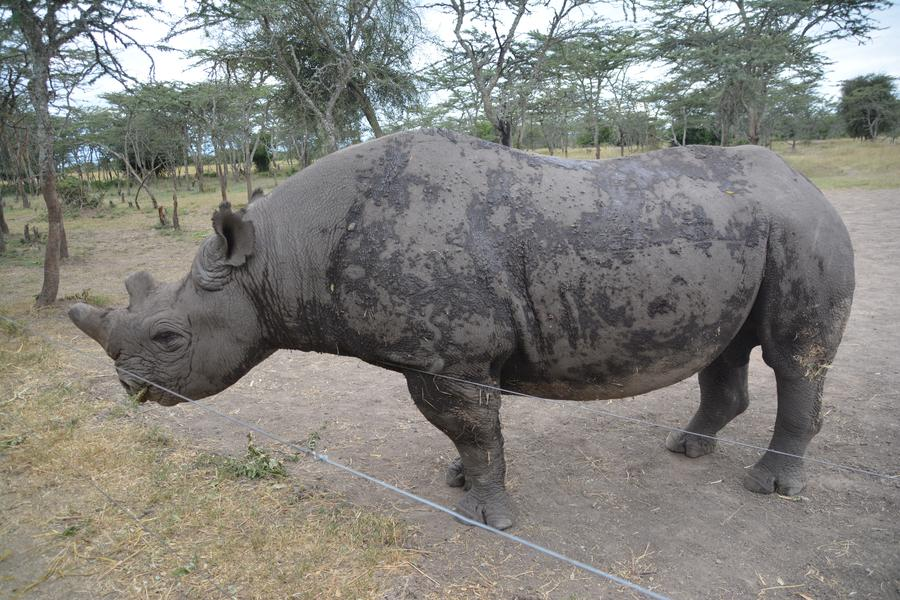rhino: (102, 160, 837, 477)
